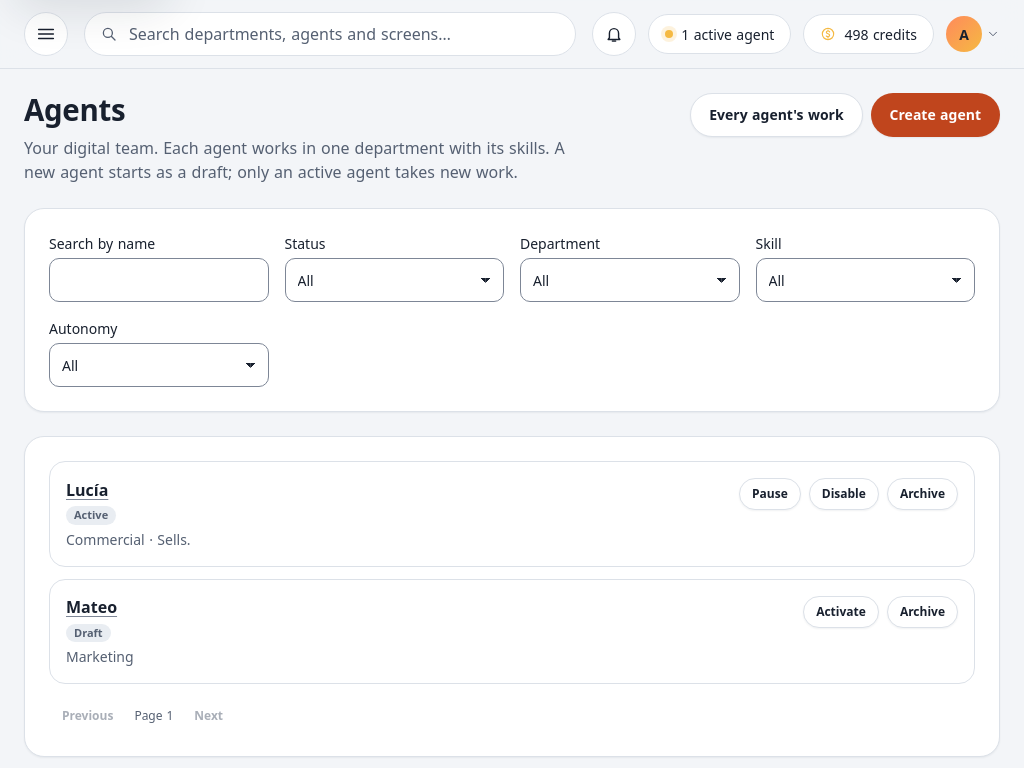
Test: Agents (ADR-0025, ADR-0062) › activates an agent through the status route
Click the button "Activate".
click(841, 612)  # box [803, 596, 879, 628]
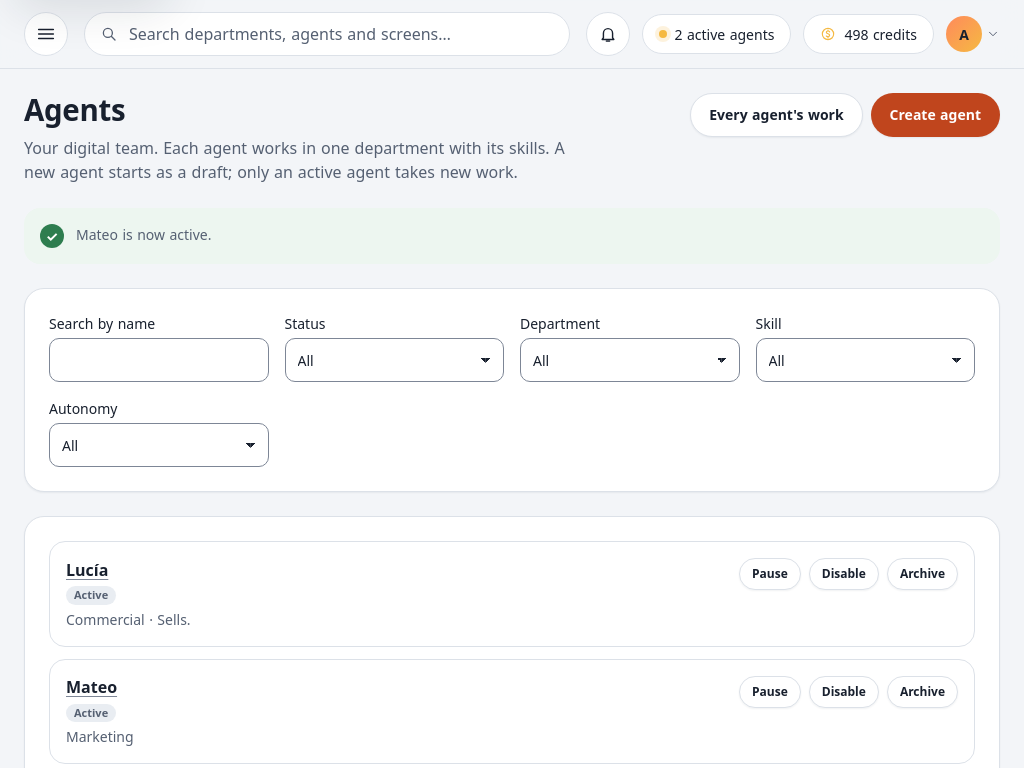
Result: the text "Mateo is now active." is shown at [76, 224, 212, 245]
Result: the 2nd text "Active" is shown at [66, 704, 116, 722]
